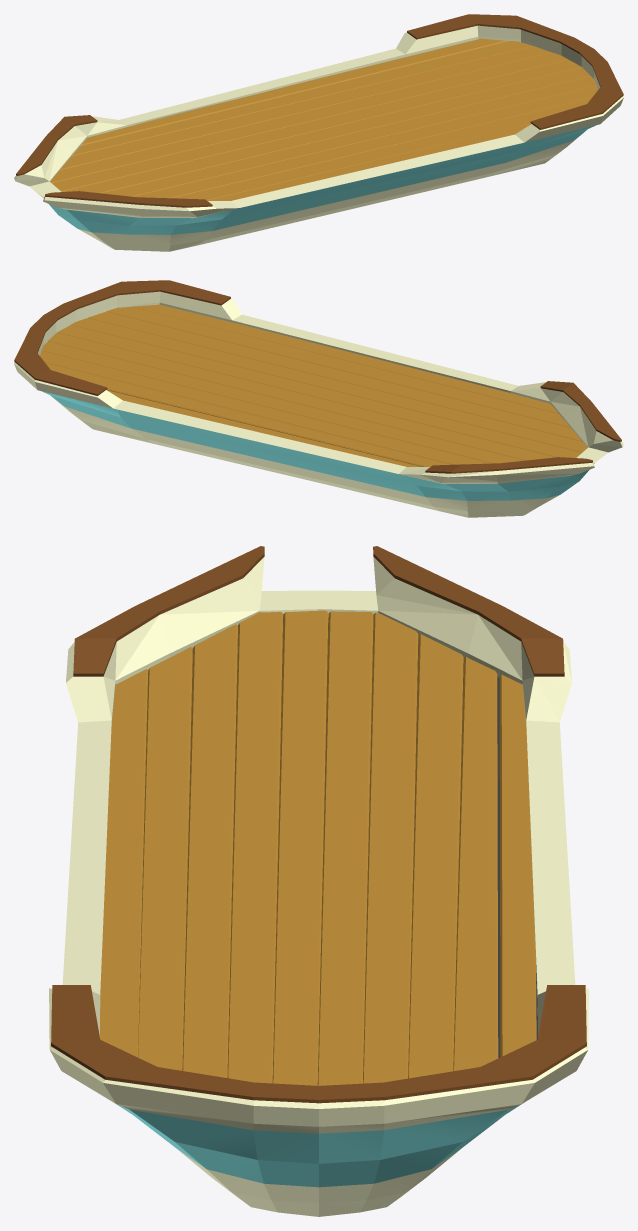
The model's file is Gamemode Boat.FBX.
The picture shows the model from 3 angles, top to bottom: view 1: azimuth 30°, elevation 25°; view 2: azimuth 150°, elevation 25°; view 3: azimuth 270°, elevation 25°; orthographic projection. The views are drawn at different scales.
Visible parts, largest first — view 1: Boat, Boat_Rim, Boat_Rim_Front_Left, Boat_Rim_Front_Right; view 2: Boat, Boat_Rim, Boat_Rim_Front_Right, Boat_Rim_Front_Left; view 3: Boat, Boat_Rim, Boat_Rim_Front_Right, Boat_Rim_Front_Left.
Part boxes in pixels (x1,y1,x2,y2): Boat: (29, 36, 598, 251); Boat_Rim: (396, 14, 623, 142); Boat_Rim_Front_Left: (43, 191, 238, 216); Boat_Rim_Front_Right: (14, 115, 126, 186); Boat: (39, 302, 608, 517); Boat_Rim: (14, 280, 241, 408); Boat_Rim_Front_Right: (399, 457, 594, 482); Boat_Rim_Front_Left: (511, 381, 623, 452); Boat: (62, 590, 575, 1216); Boat_Rim: (49, 985, 588, 1126); Boat_Rim_Front_Right: (373, 546, 571, 722); Boat_Rim_Front_Left: (66, 546, 264, 722).
Size of the model in its own units: 1653 by 682 by 259.
